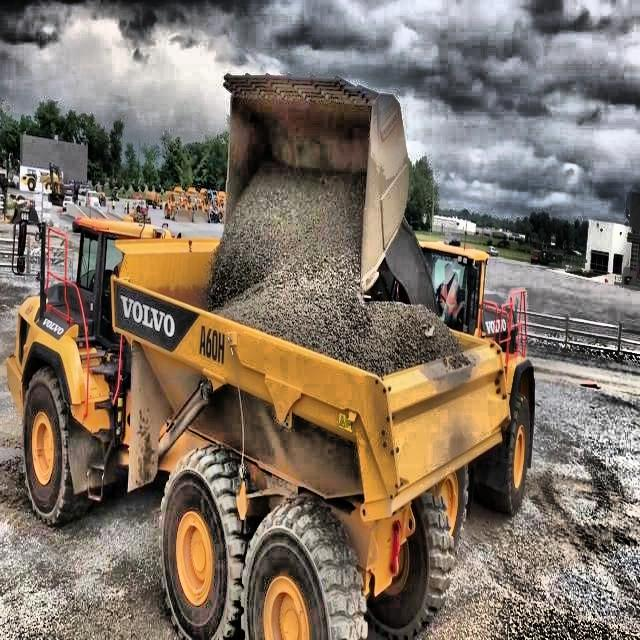bull_dozer/loader/grader: (219, 68, 540, 324)
dump_truck: (5, 215, 511, 638)
